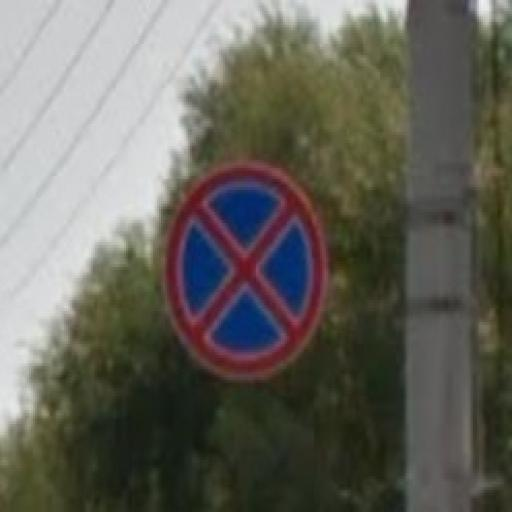traffic_sign: (164, 161, 327, 381)
